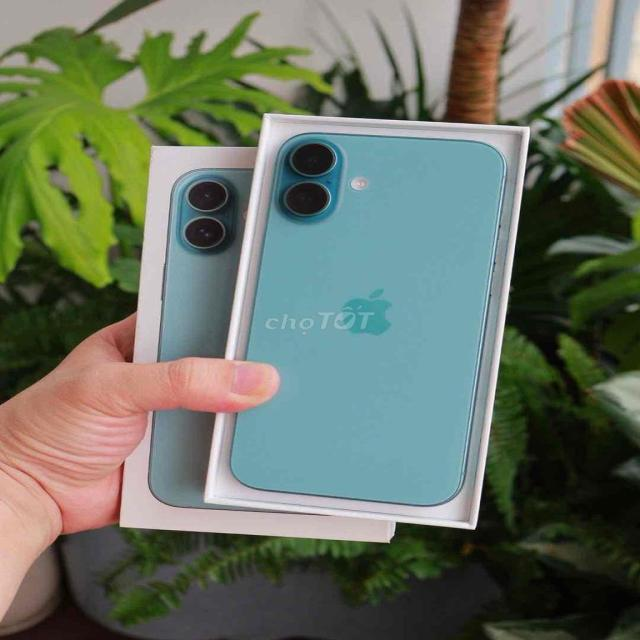gen_16: (226, 121, 514, 524)
